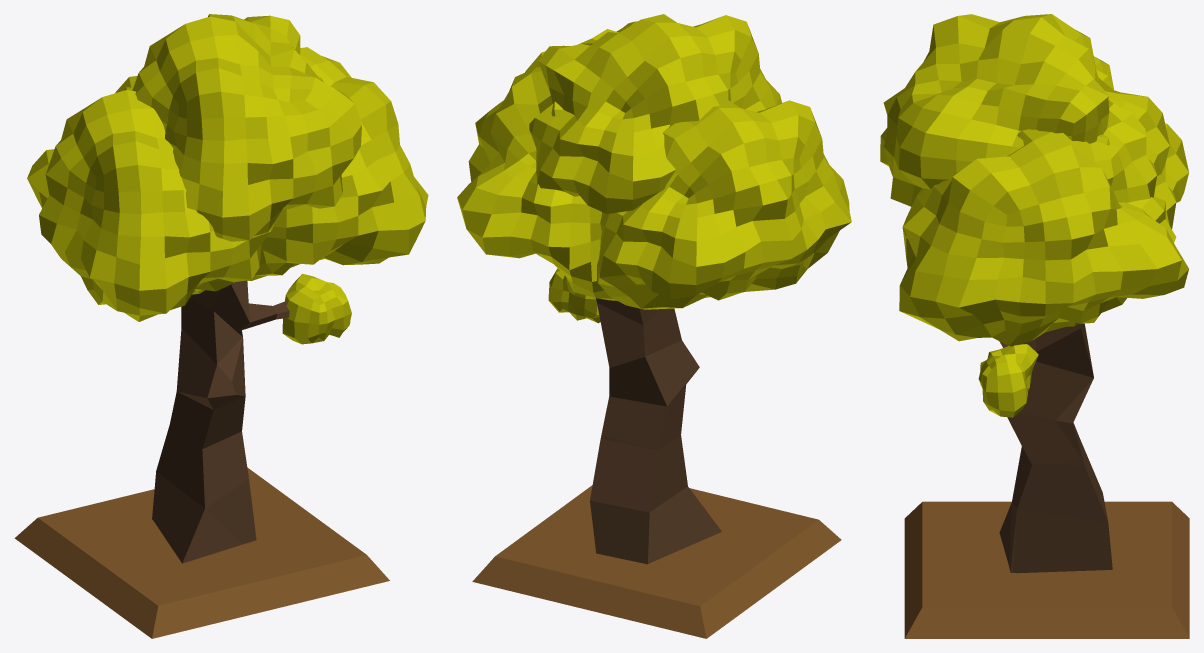
Rendered from Arbre.fbx.
3 views of the same model, side by side, from view 1: azimuth 30°, elevation 25°; view 2: azimuth 150°, elevation 25°; view 3: azimuth 270°, elevation 25° (orthographic). The views are drawn at different scales.
Parts seen in each view (by area): view 1: Arbre; view 2: Arbre; view 3: Arbre.
Boxes of the visible parts, x1,y1,x2,y2 form: Arbre: (14,14,428,638); Arbre: (457,14,851,638); Arbre: (880,14,1189,638).
Size of the model in its own units: 227 by 349 by 174.
